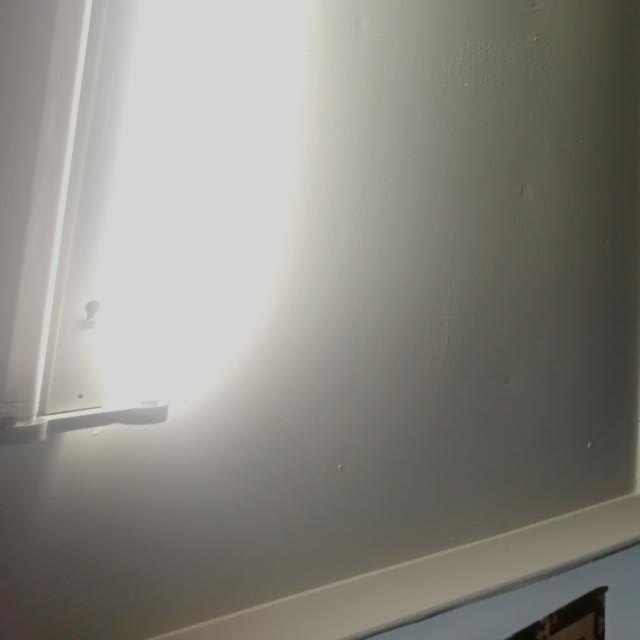fluorescent tube: (71, 0, 423, 452)
